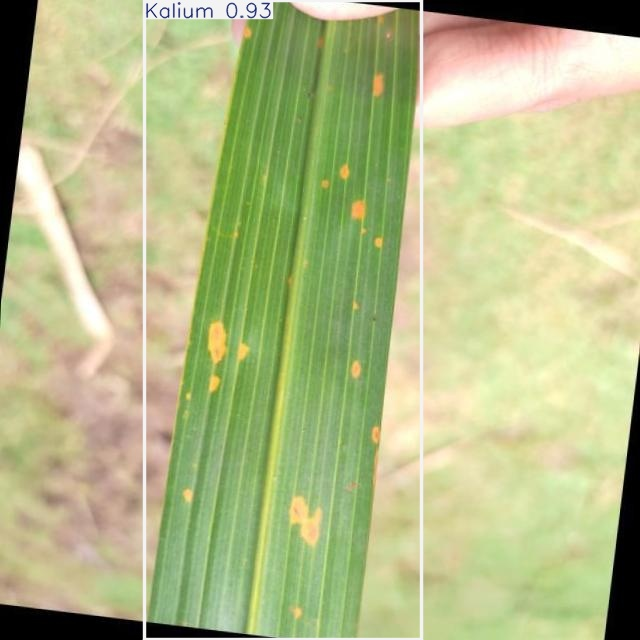Kalium: (144, 0, 421, 639)
